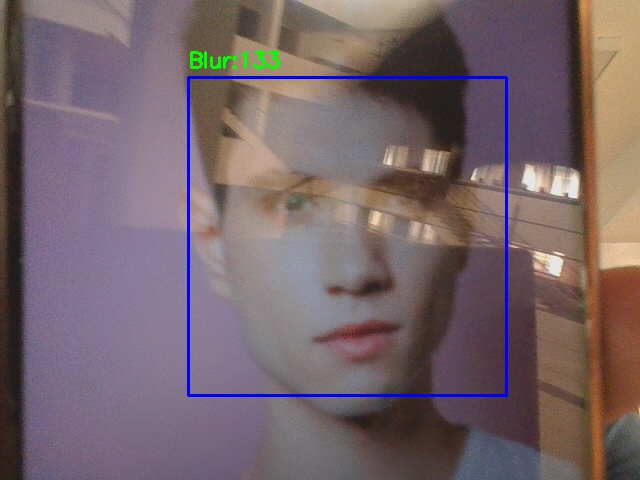fake: (188, 77, 506, 395)
